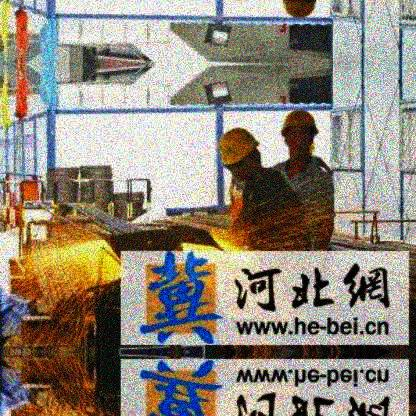helmet: (220, 127, 260, 183), (280, 110, 319, 163)
